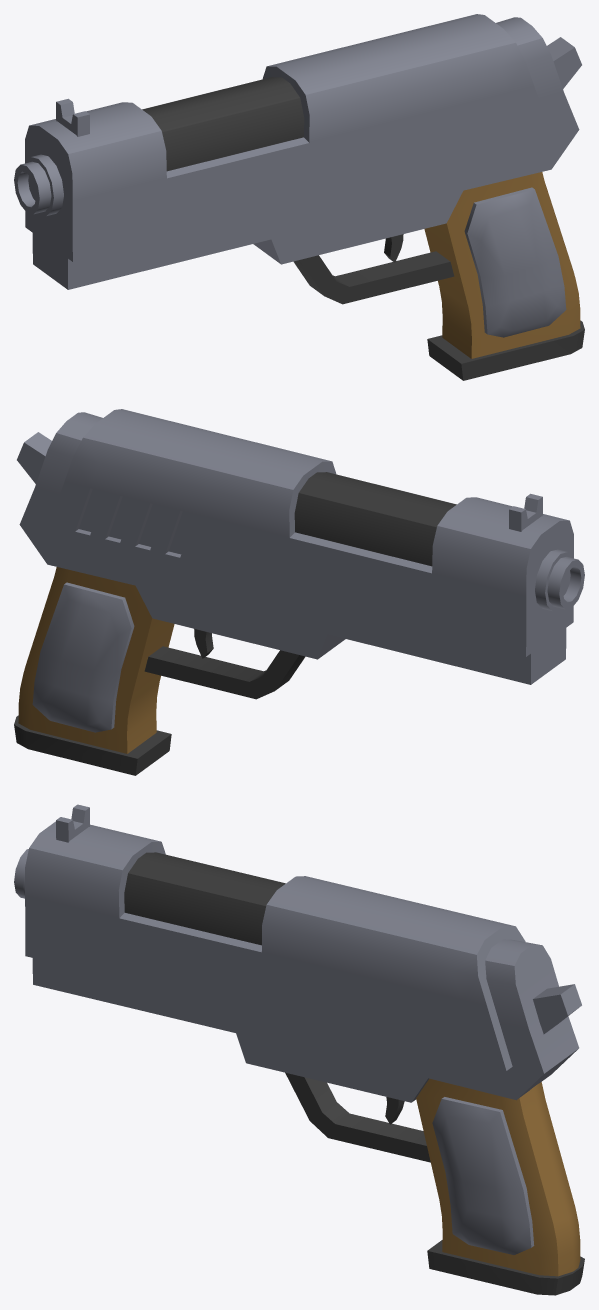
The model's file is Pistol.glb.
The picture shows the model from 3 angles, top to bottom: view 1: azimuth 30°, elevation 25°; view 2: azimuth 150°, elevation 25°; view 3: azimuth 330°, elevation 25°; orthographic projection.
Parts seen in each view (by area): view 1: Pistol; view 2: Pistol; view 3: Pistol.
Part boxes in pixels (box(x1,y1,x2,y2)): Pistol: box(14, 14, 584, 380); Pistol: box(14, 409, 584, 775); Pistol: box(14, 804, 584, 1295).
Bounding box in the file's own units: 0.2784 × 0.1697 × 0.0416.
